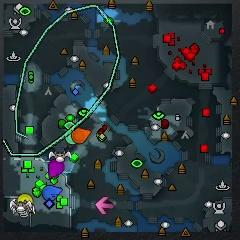p1: (42, 184, 63, 201)
p2: (66, 129, 76, 144)
p3: (48, 159, 65, 178)
p4: (18, 193, 32, 204)
p5: (72, 128, 91, 144)
x1: (95, 197, 114, 214)
